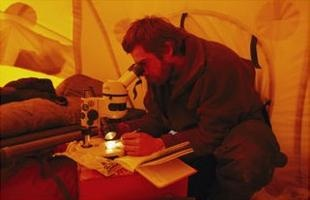person without safety: (119, 15, 254, 155)
